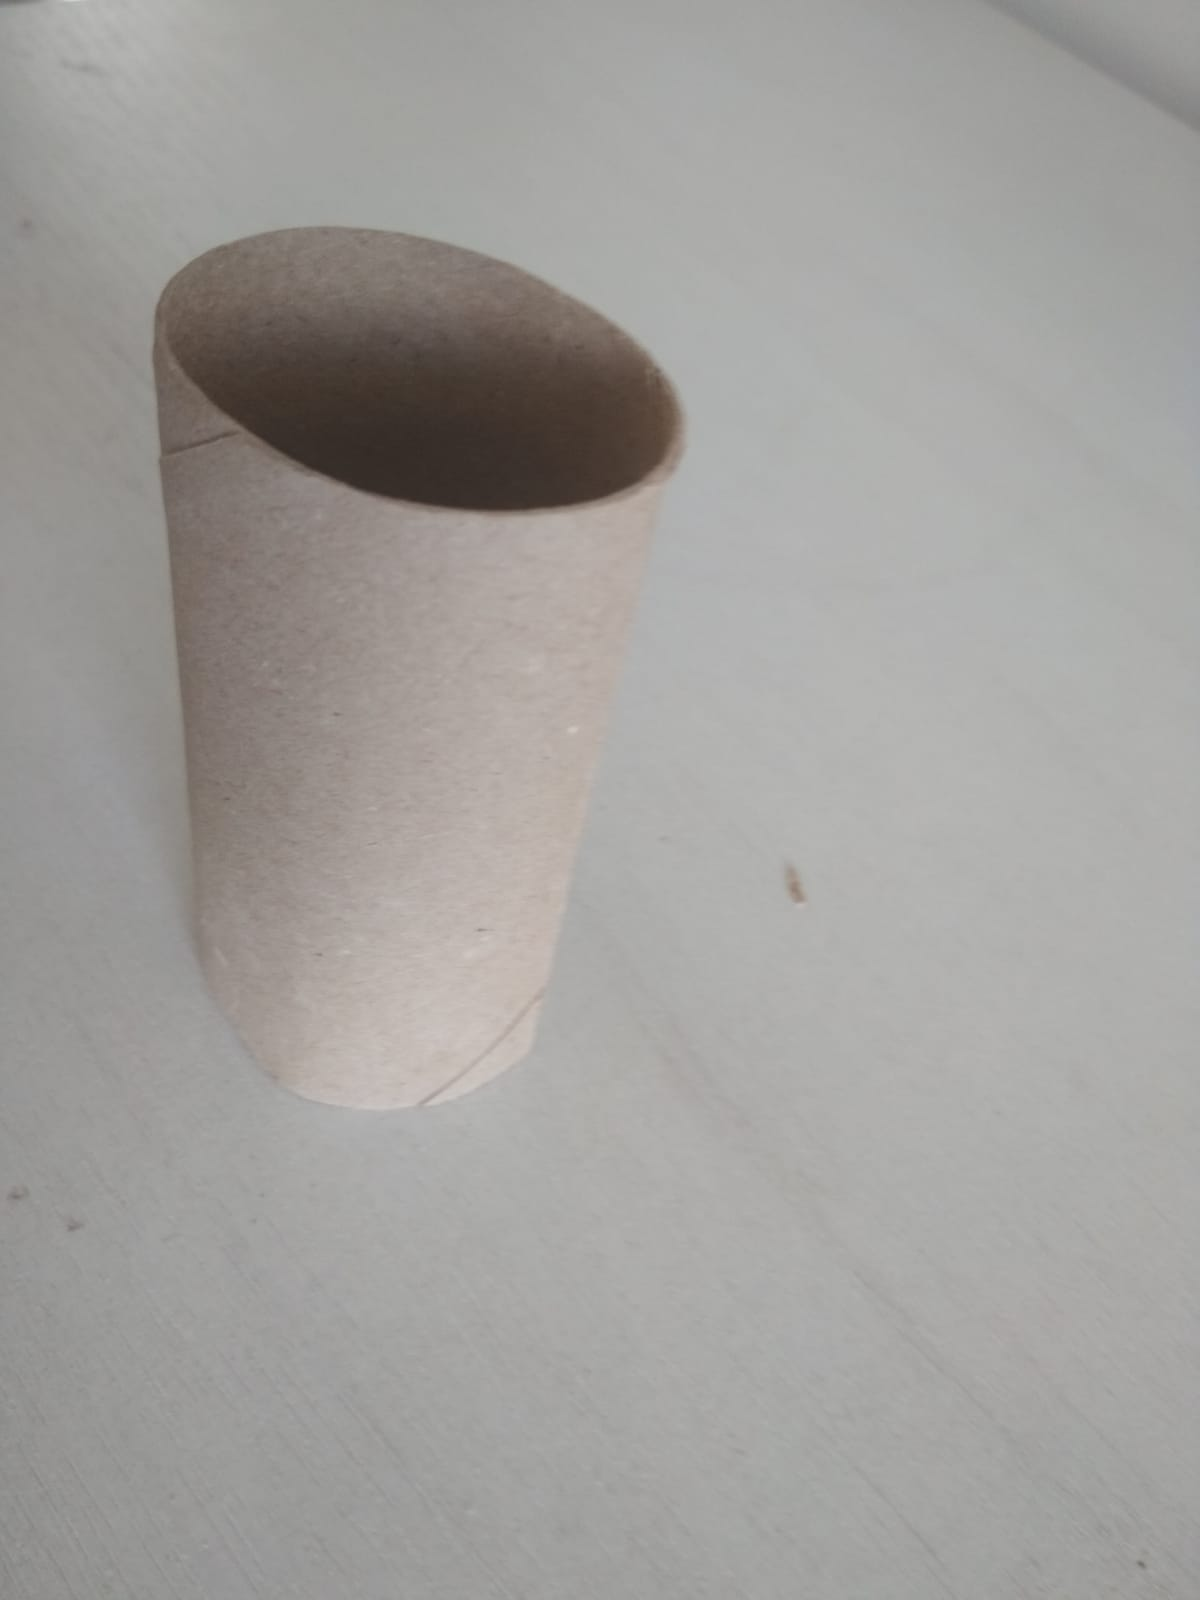rollo papel: (154, 219, 689, 1107)
